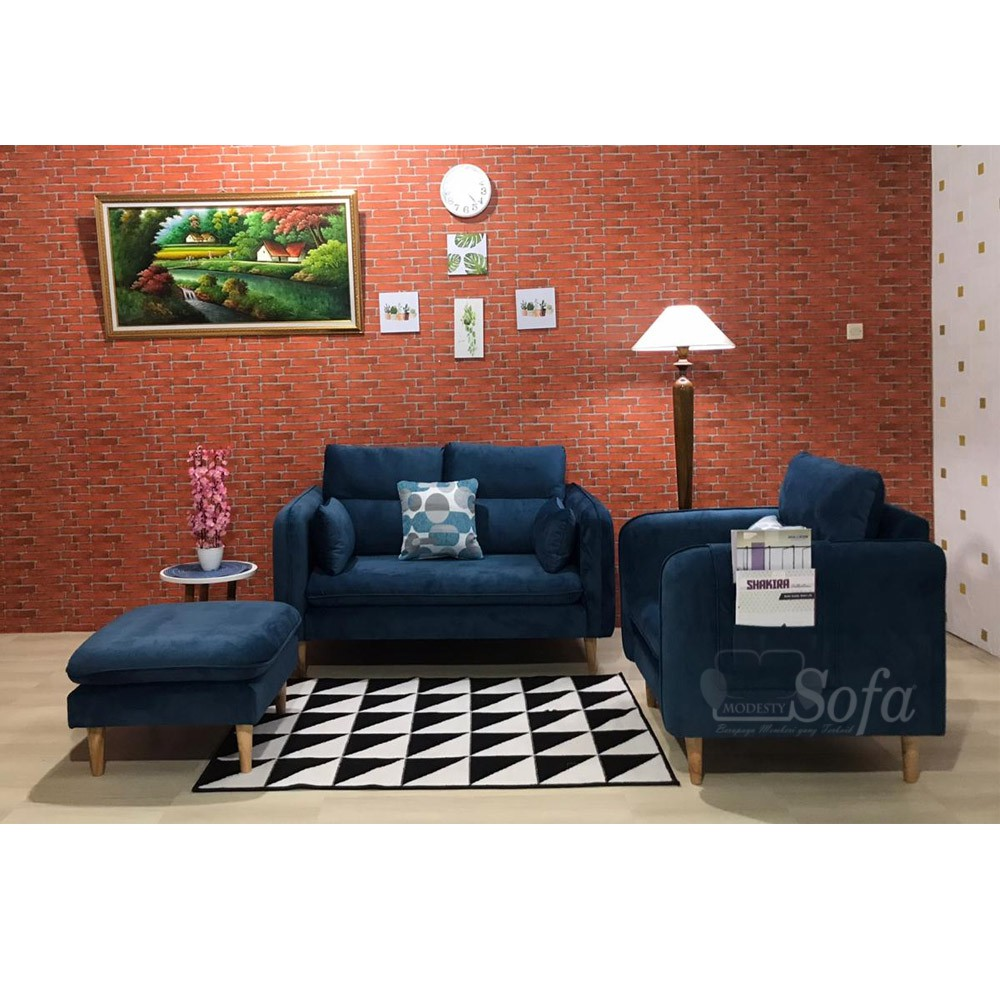kursi: (90, 594, 296, 767)
lampu: (634, 306, 726, 504)
sofa: (622, 467, 950, 771), (276, 442, 618, 662)
tanaman: (177, 447, 241, 567)
